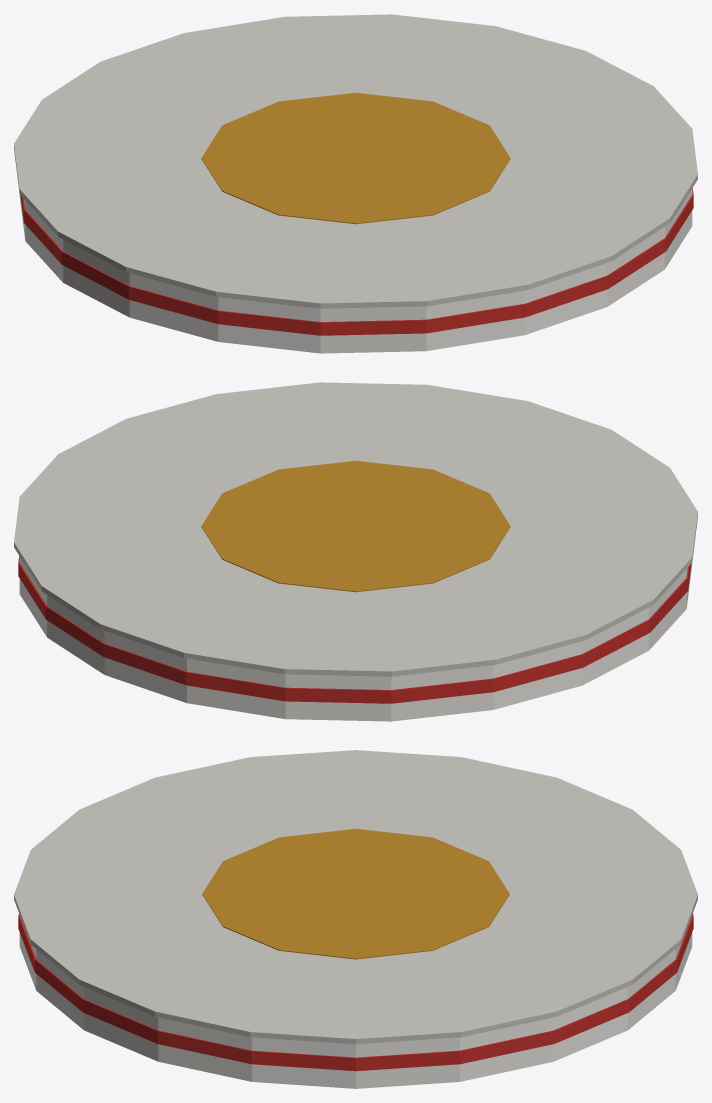
File: SM_GrandDais.fbx
3 views of the same model, one above another, from view 1: azimuth 30°, elevation 25°; view 2: azimuth 150°, elevation 25°; view 3: azimuth 270°, elevation 25° (orthographic).
Parts seen in each view (by area): view 1: SM_GrandDais; view 2: SM_GrandDais; view 3: SM_GrandDais.
Boxes of the visible parts, box(x1,y1,x2,y2) form: SM_GrandDais: box(14, 14, 697, 353); SM_GrandDais: box(14, 382, 697, 721); SM_GrandDais: box(14, 750, 697, 1088).
Bounding box in the file's own units: 14.24 × 14.24 × 1.22.
